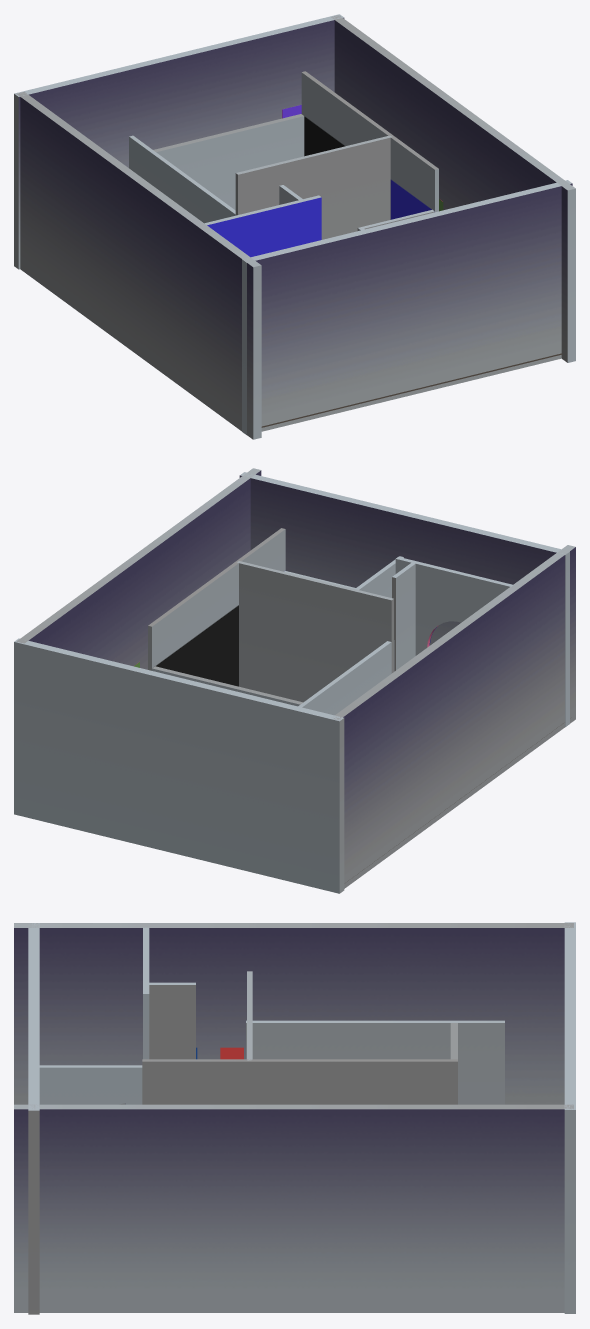
Rendered from MarkGallery_02.glb.
3 views of the same model, one above another, from view 1: azimuth 30°, elevation 25°; view 2: azimuth 150°, elevation 25°; view 3: azimuth 270°, elevation 25° (orthographic). The views are drawn at different scales.
Parts seen in each view (by area): view 1: Plane; view 2: Plane; view 3: Plane.
Boxes of the visible parts, x1,y1,x2,y2 form: Plane: [14, 14, 575, 439]; Plane: [14, 468, 575, 893]; Plane: [14, 922, 575, 1314].
Bounding box in the file's own units: 7.93 × 4.25 × 9.99.
Materials: 1 (1 with a texture image).
